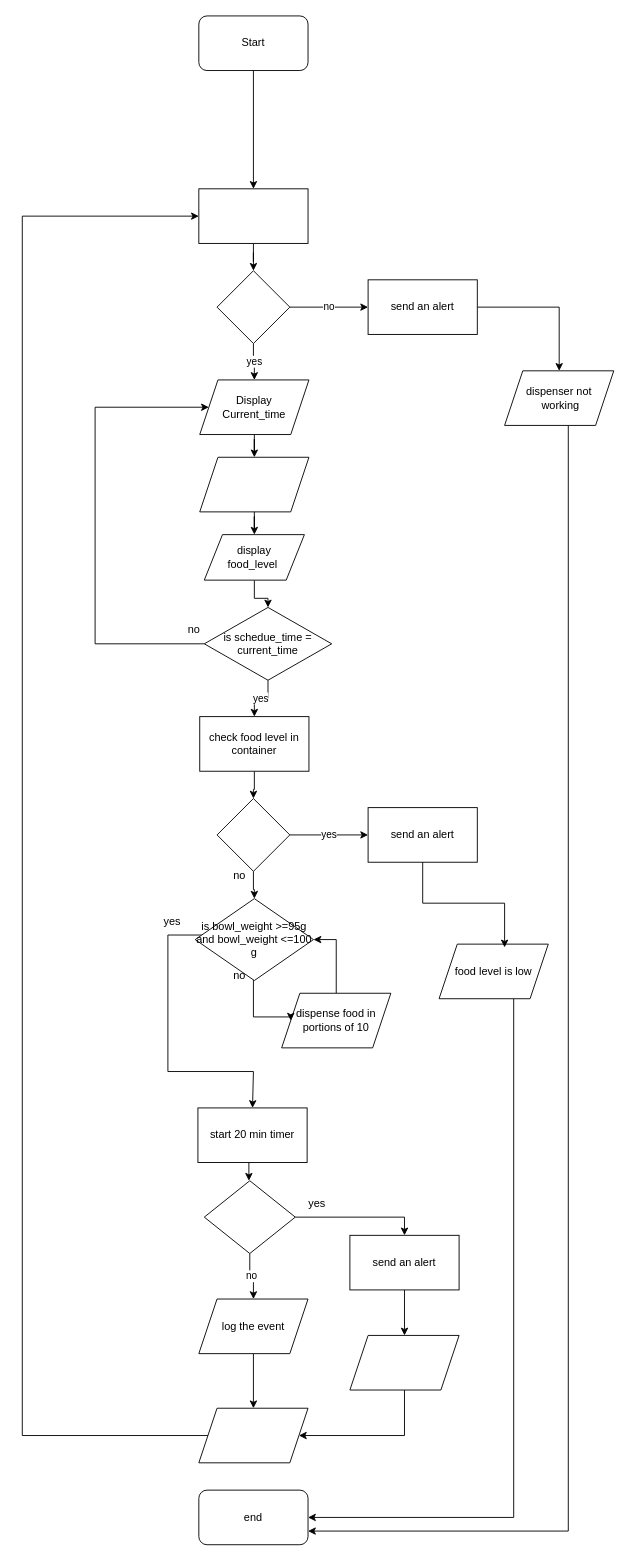
Image size: 630x1561. Some labels were removed from this diagram. The centre of each missing label's shape, as x and y in pixels:
"check dispenser status" belongs at (x=253, y=215).
"Display Schedued_time" belongs at (x=254, y=484).
"food hasnt been consumed" belongs at (x=404, y=1362).
"is bowl_weight >=75 g after 20 min" belongs at (x=249, y=1217).
"is dispenser working" belongs at (x=253, y=307).
"is food_level low" belongs at (x=253, y=834).
"update display" belongs at (x=253, y=1435).
